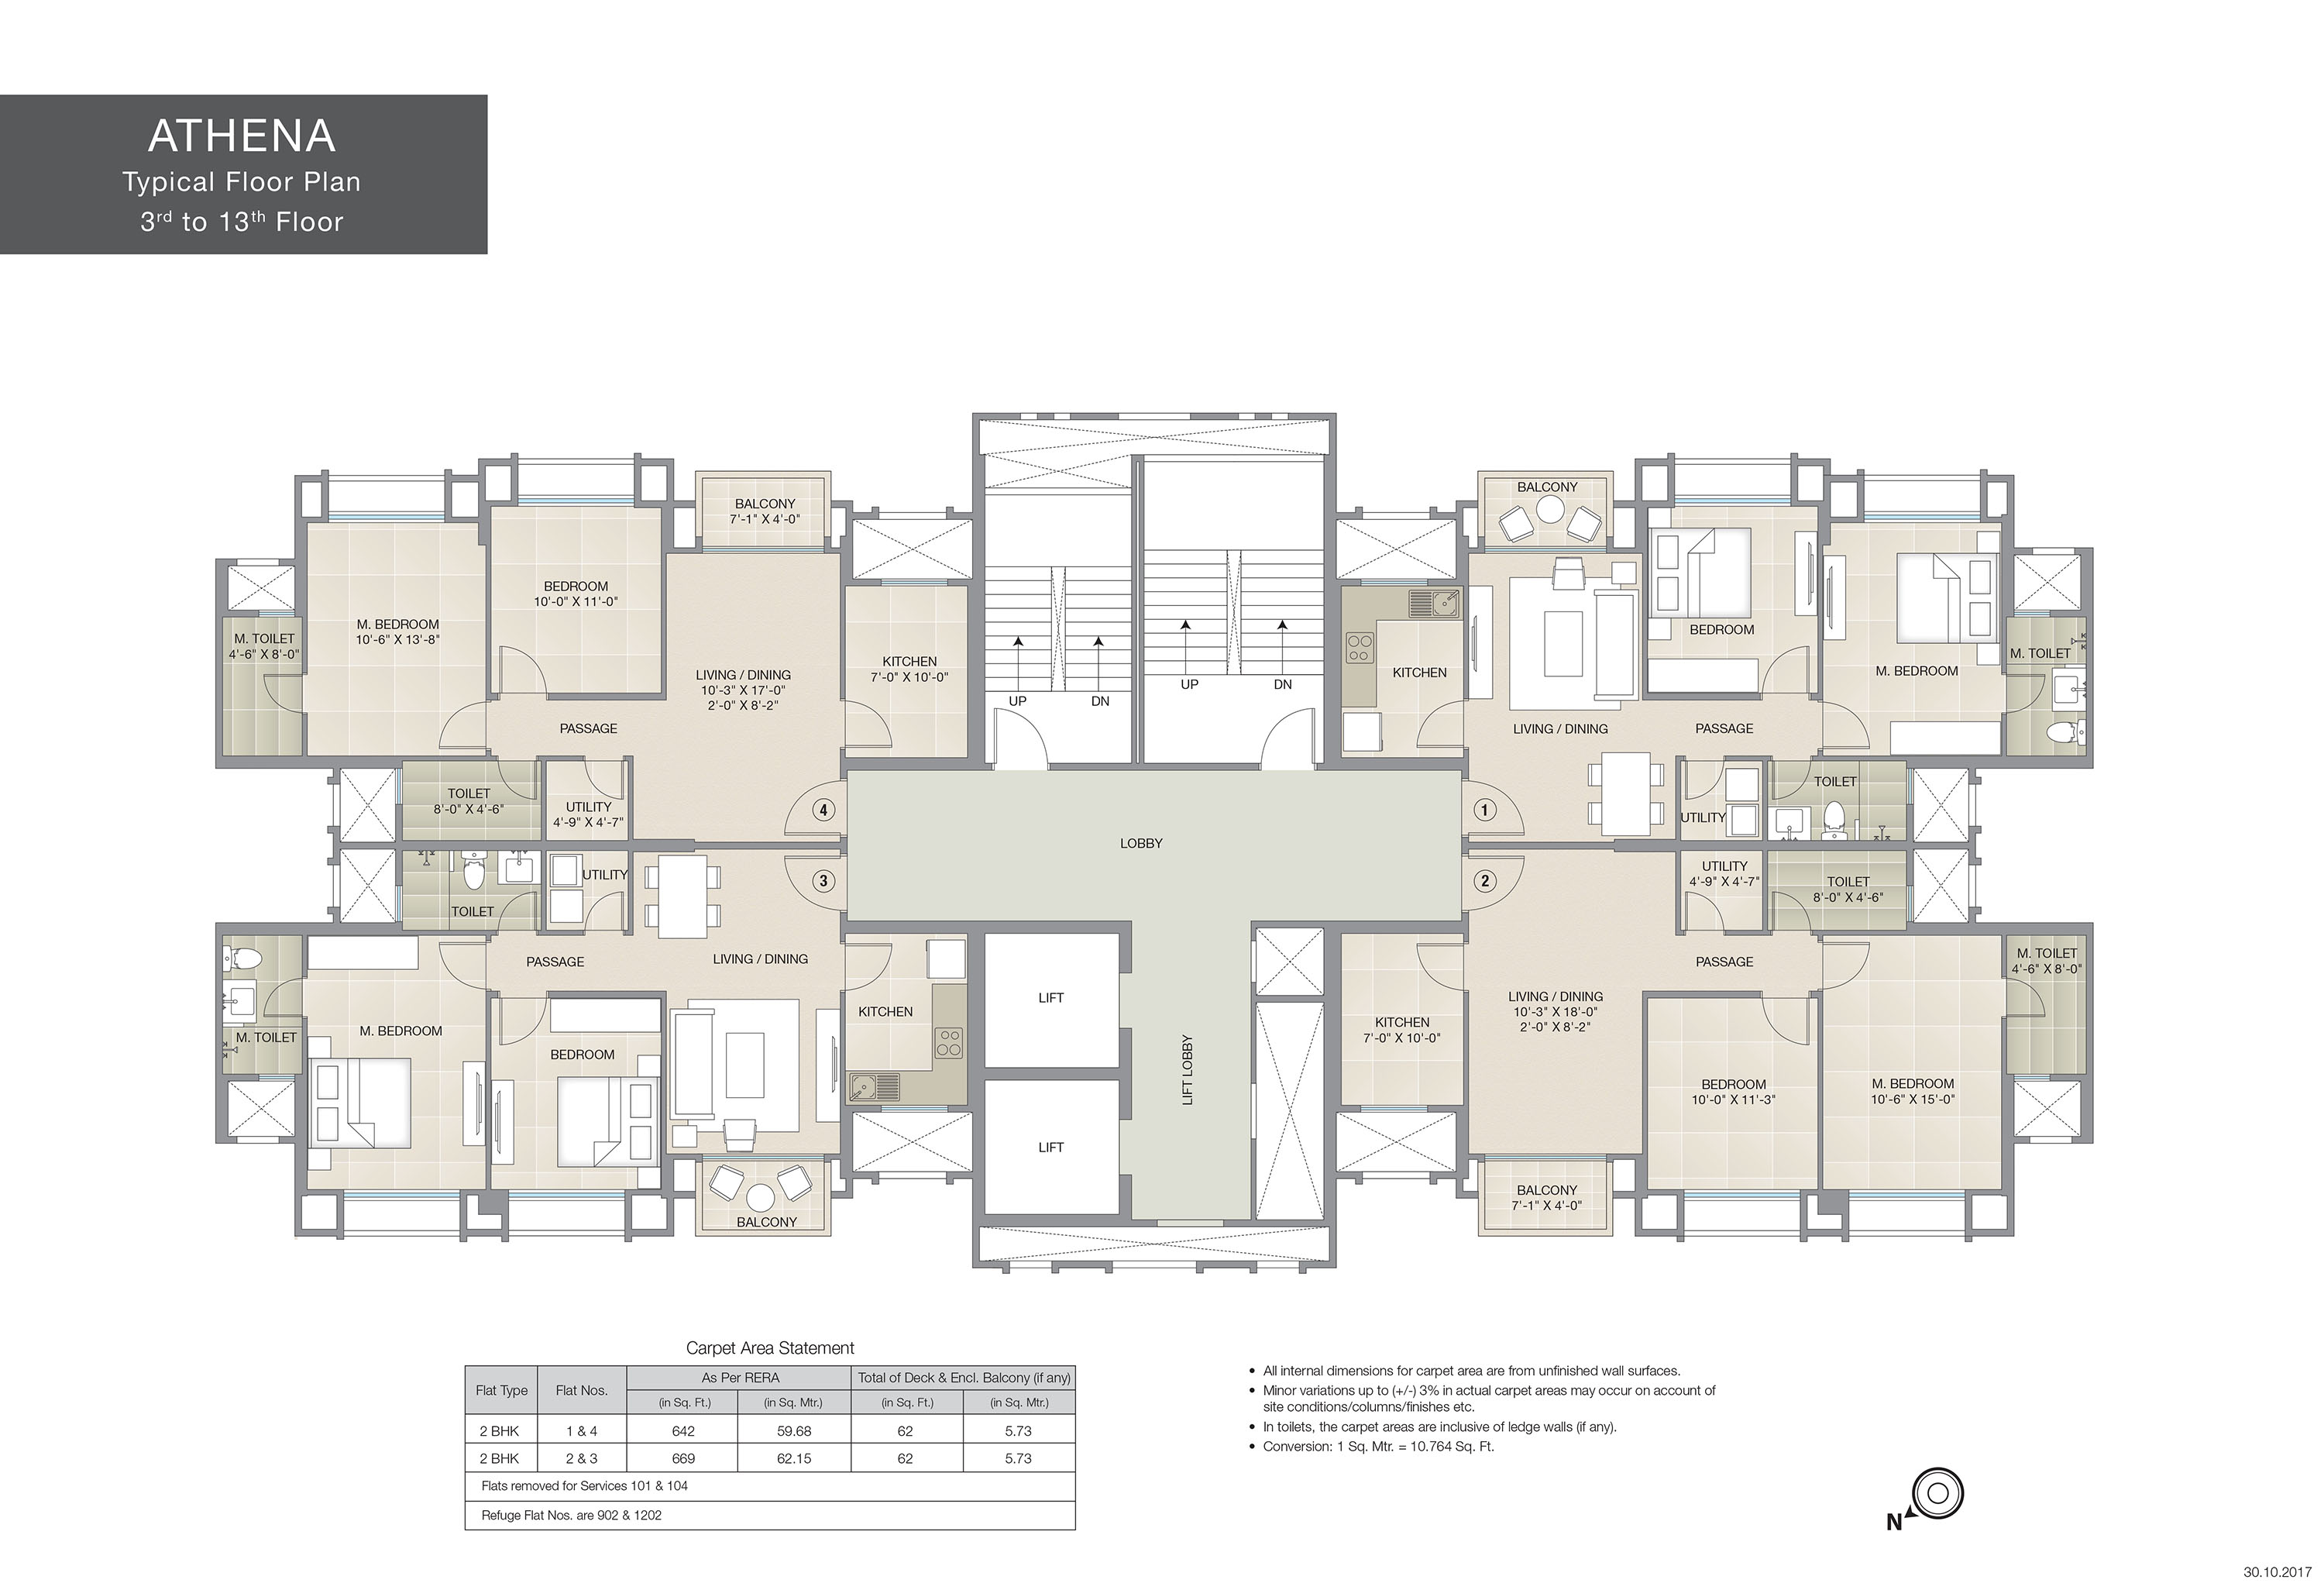window: (1847, 1187, 1969, 1205), (1681, 1187, 1803, 1205), (1482, 1148, 1603, 1166), (699, 1150, 826, 1166), (503, 1187, 629, 1203), (339, 1187, 464, 1203), (327, 511, 449, 526), (516, 491, 638, 507), (701, 542, 828, 556), (1482, 542, 1607, 556), (1672, 493, 1798, 507), (1863, 511, 1983, 525), (1358, 1102, 1429, 1117), (878, 576, 950, 588), (1360, 576, 1430, 588), (878, 1102, 948, 1115), (258, 606, 297, 620), (2010, 1072, 2052, 1085), (392, 883, 404, 924), (392, 767, 404, 807), (2013, 608, 2052, 620), (258, 1072, 297, 1085), (1905, 765, 1916, 809), (1905, 882, 1916, 926)
